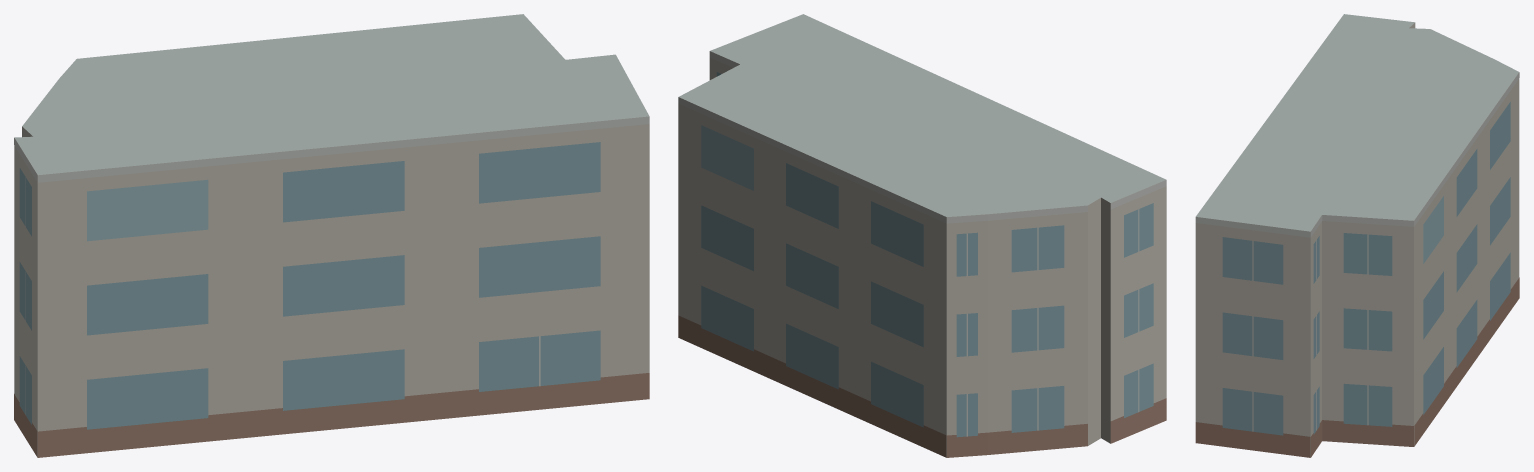
The model's file is survey-upis-32695833.glb.
3 renders of one model, left to right at view 1: azimuth 30°, elevation 25°; view 2: azimuth 150°, elevation 25°; view 3: azimuth 270°, elevation 25°, orthographic. The views are drawn at different scales.
Parts seen in each view (by area): view 1: survey-upis-32695833.tmp; view 2: survey-upis-32695833.tmp; view 3: survey-upis-32695833.tmp.
Boxes of the visible parts, bbox=[...] form: survey-upis-32695833.tmp: bbox=[14, 14, 649, 457]; survey-upis-32695833.tmp: bbox=[678, 14, 1166, 457]; survey-upis-32695833.tmp: bbox=[1195, 14, 1519, 457].
Size of the model in its own units: 18.79 by 9.1 by 11.82.
